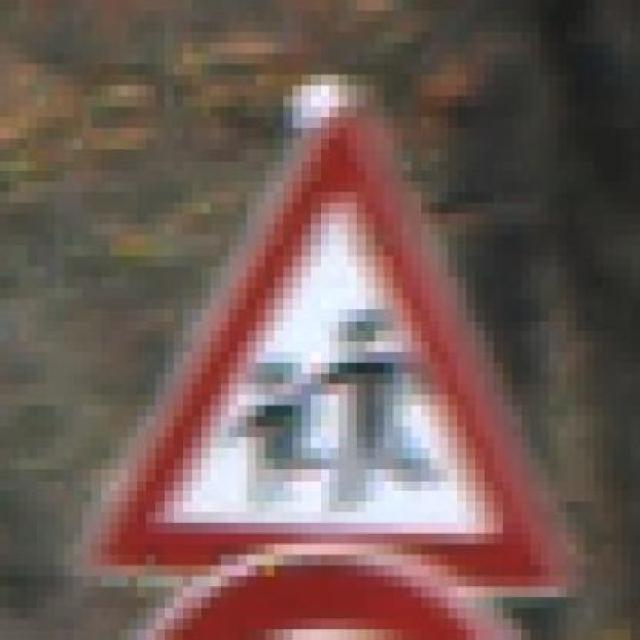Beware of children: (73, 79, 595, 602)
